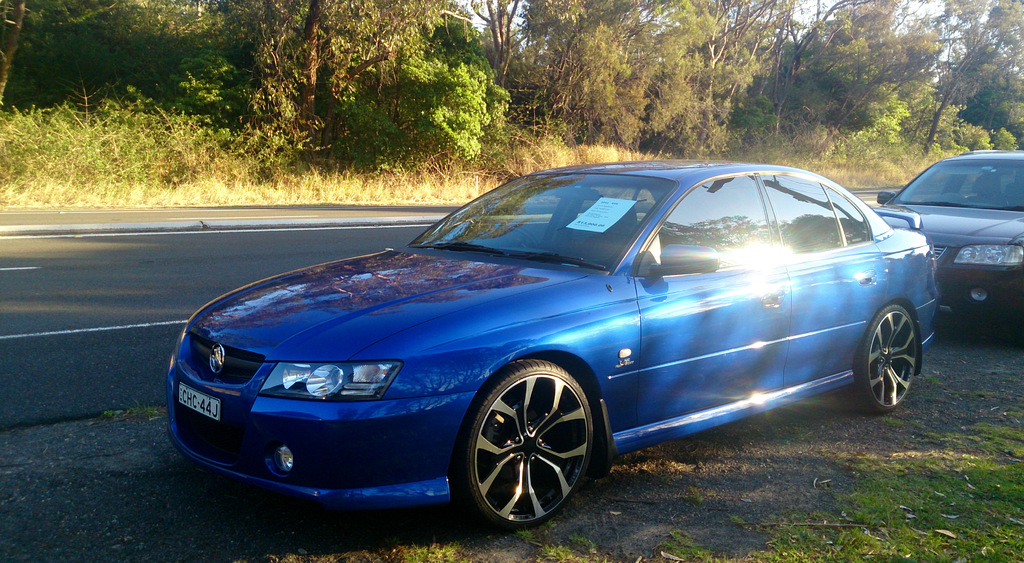Car: (158, 159, 943, 534), (871, 150, 1023, 332)
